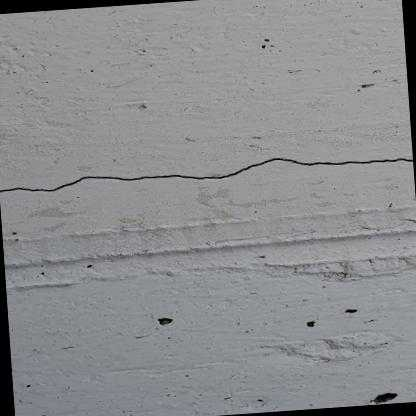crack: (0, 157, 413, 193)
